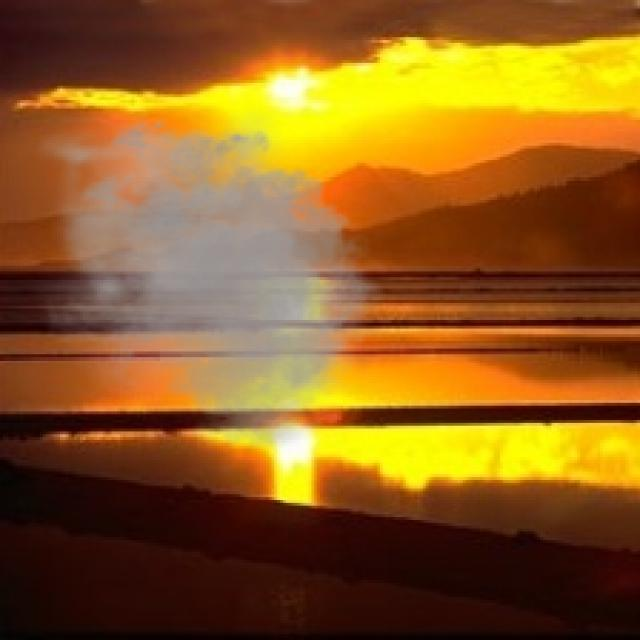smoke: (26, 103, 394, 460)
